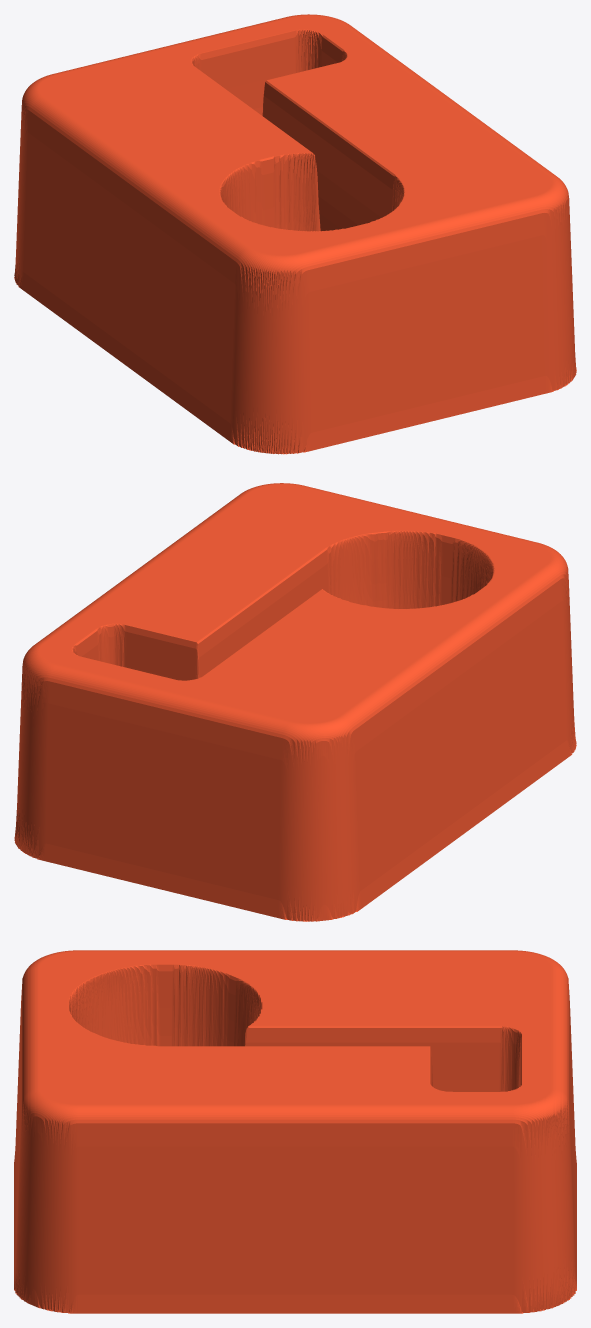
The model's file is mold.glb.
3 views of the same model, one above another, from view 1: azimuth 30°, elevation 25°; view 2: azimuth 150°, elevation 25°; view 3: azimuth 270°, elevation 25° (orthographic). The views are drawn at different scales.
Parts seen in each view (by area): view 1: geometry_0; view 2: geometry_0; view 3: geometry_0.
Part boxes in pixels (bbox=[...]): geometry_0: bbox=[14, 14, 576, 454]; geometry_0: bbox=[14, 483, 576, 921]; geometry_0: bbox=[14, 950, 576, 1313].
Size of the model in its own units: 0.0584 by 0.031 by 0.0798.
